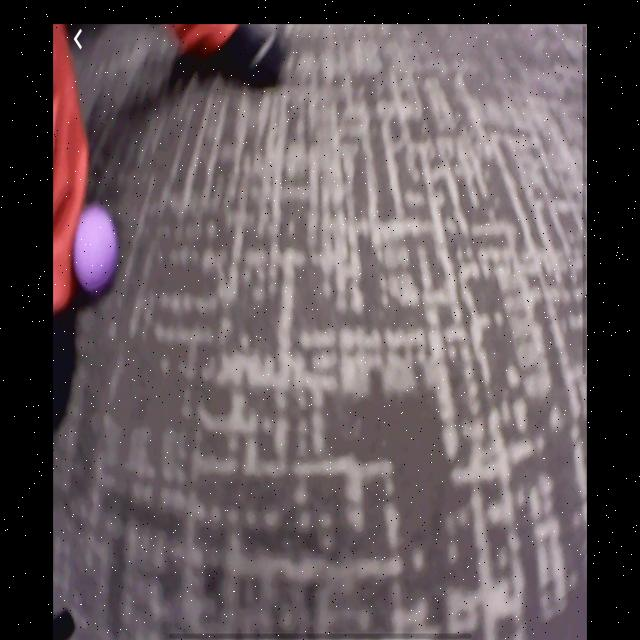ball: (74, 208, 122, 296)
